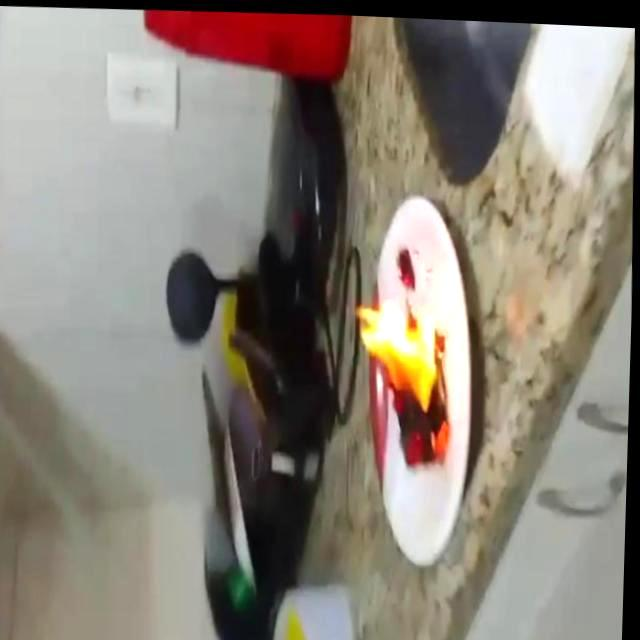fire: (350, 290, 458, 470)
